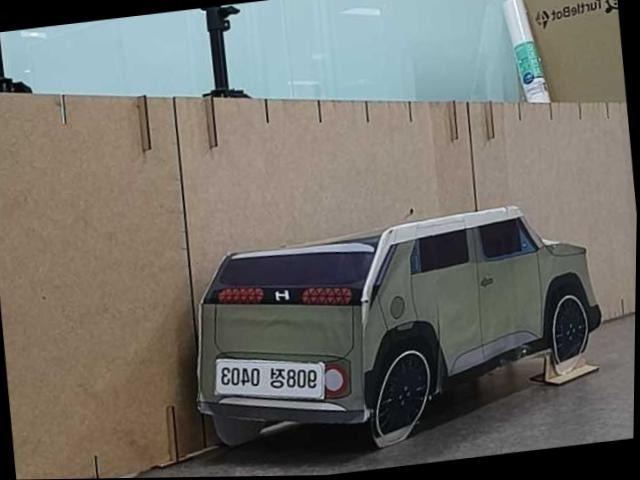car: (175, 190, 618, 473)
id: (209, 344, 328, 414)
